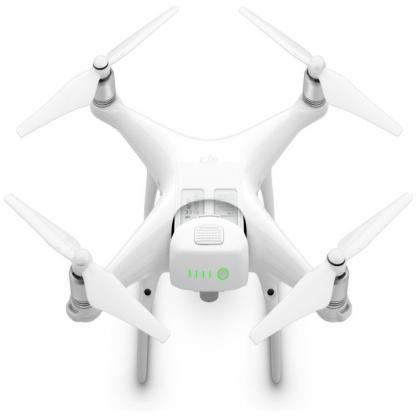drone: (21, 29, 412, 364)
